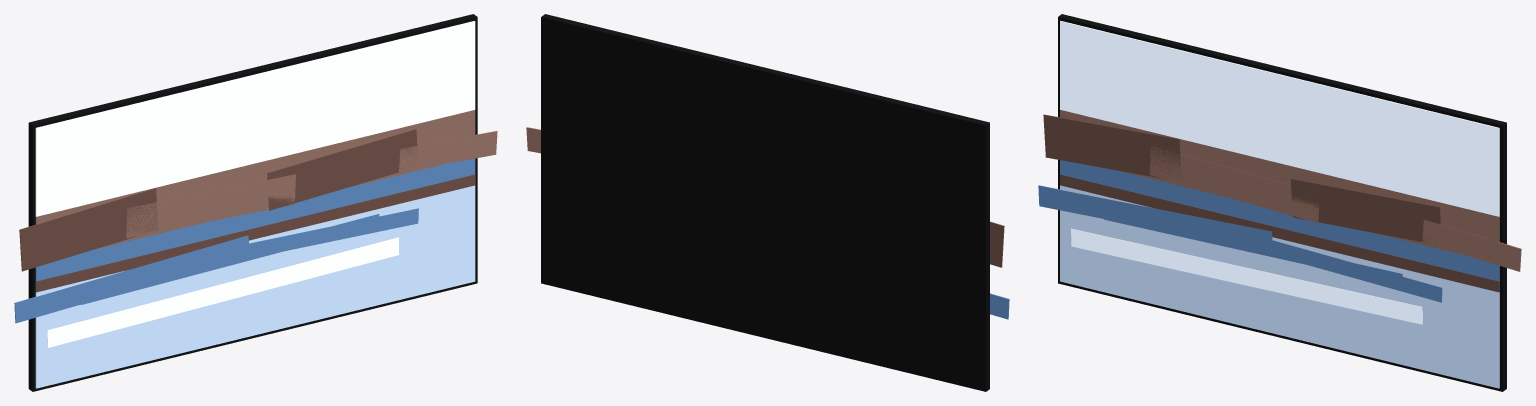
3 renders of one model, left to right at view 1: azimuth 30°, elevation 25°; view 2: azimuth 150°, elevation 25°; view 3: azimuth 330°, elevation 25°, orthographic.
Parts seen in each view (by area): view 1: root; view 2: root; view 3: root.
Part boxes in pixels (box(x1,y1,x2,y2)): root: box(14, 14, 497, 391); root: box(526, 14, 1009, 391); root: box(1038, 14, 1521, 391).
Bounding box in the file's own units: 2.26 × 1.19 × 0.0404.
